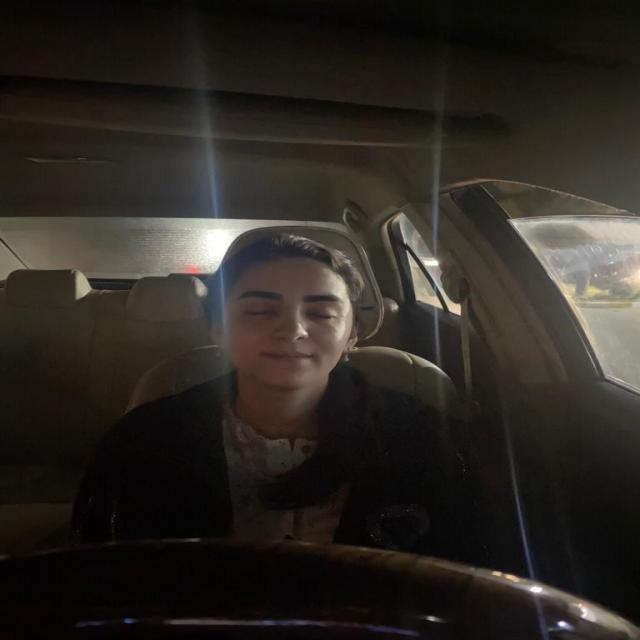drowsy: (211, 238, 378, 390)
